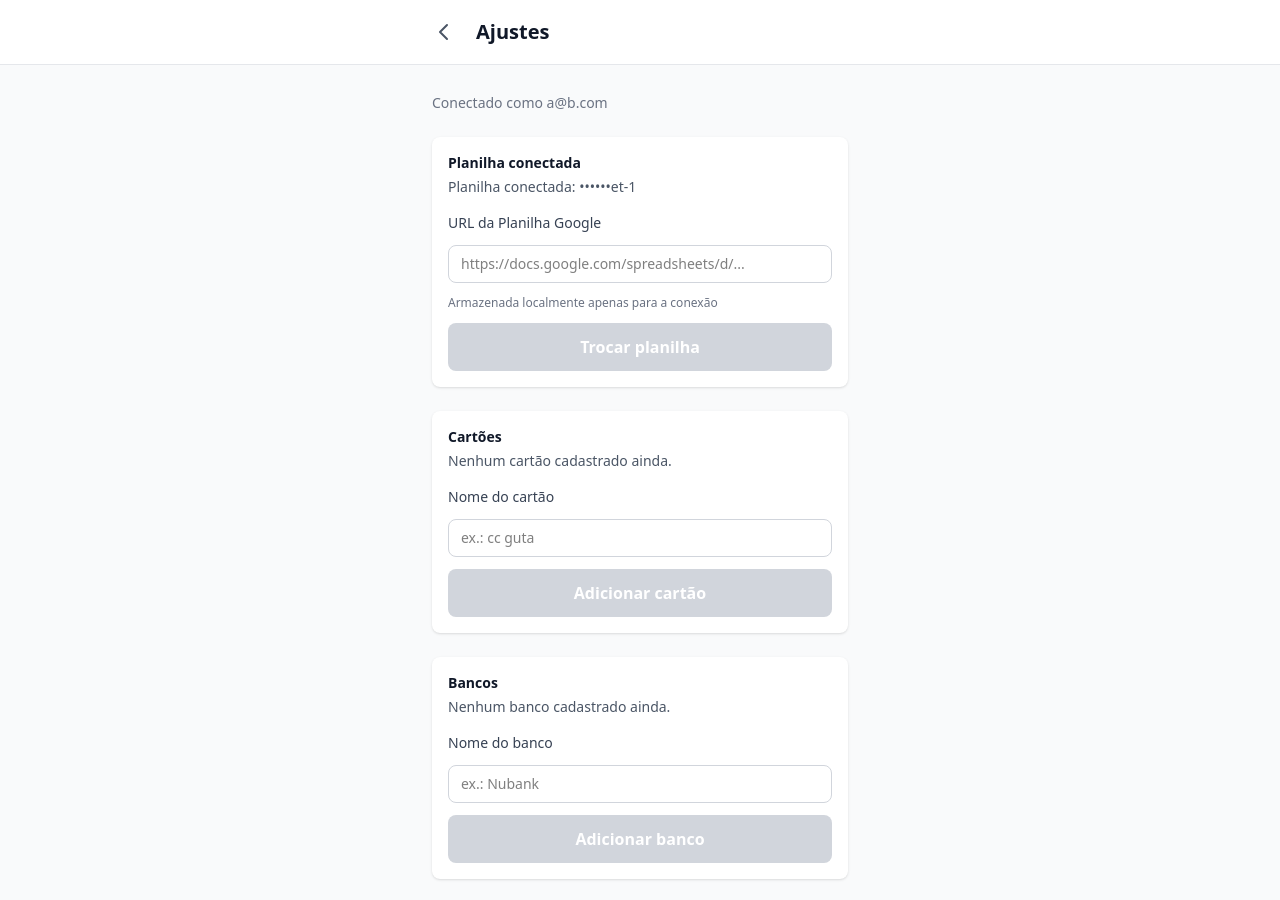
Test: Settings bank and payer registries › adds a bank and writes the banks tab back
This screenshot has width=1280, height=900.
# When the user adds a bank by name
Step 1. Type "Nubank" into the field labelled "Nome do banco" → (640,784), box [448,765,832,803]
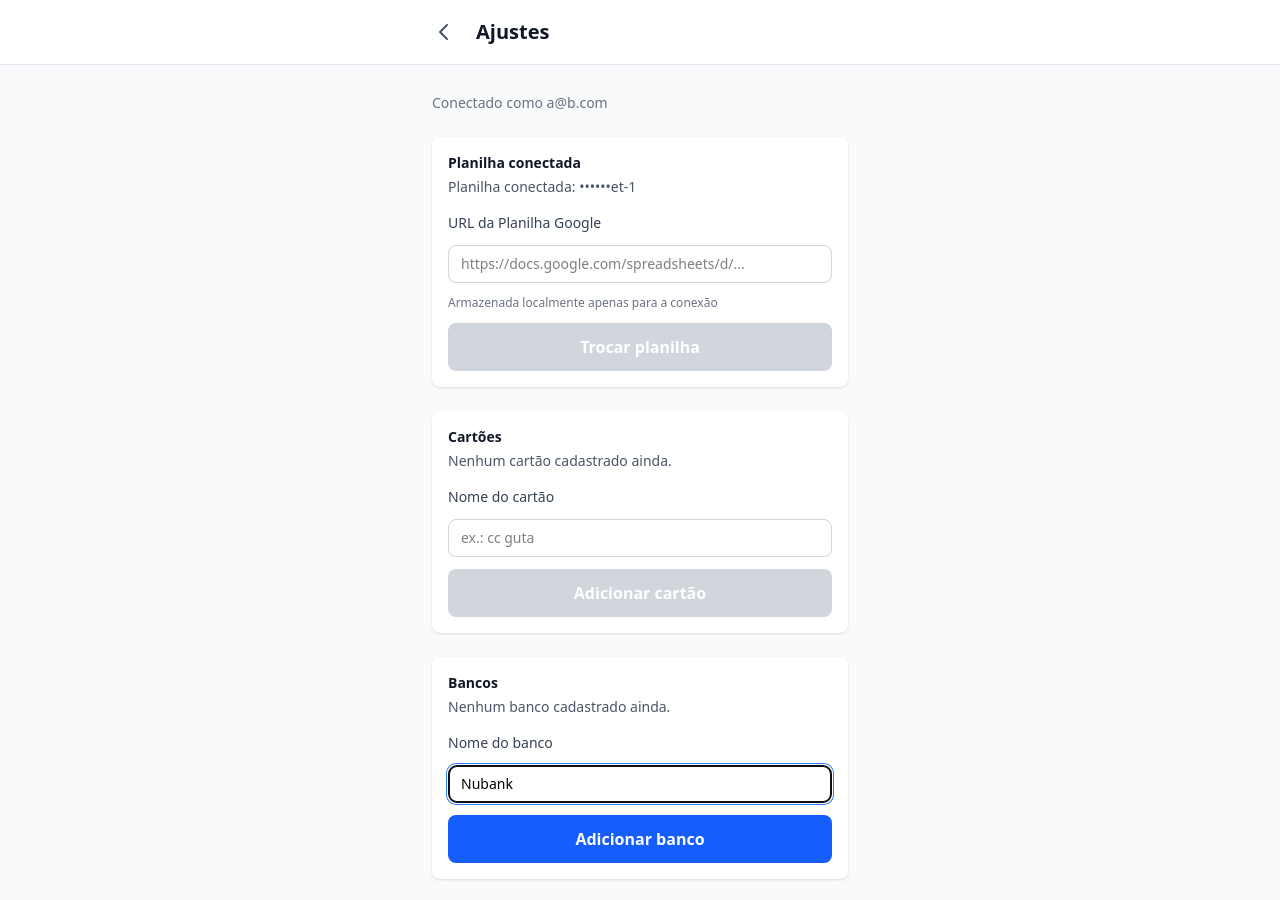
Step 2. Click the button "Adicionar banco" → (640,839), box [448,815,832,863]
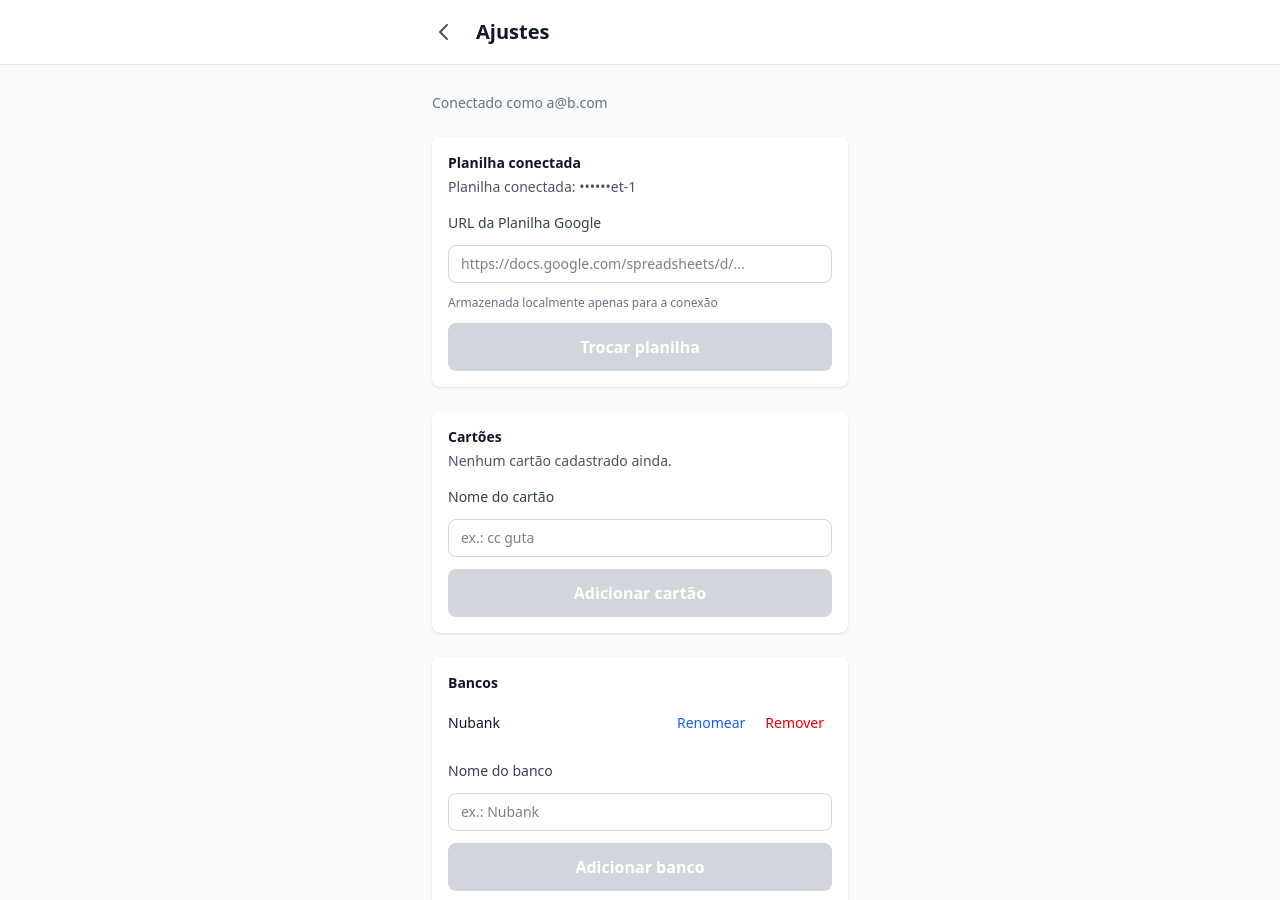
Check: the text "Nubank" is shown, box [448,713,500,733]
